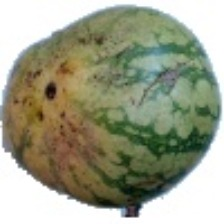watermelon: (13, 51, 202, 186)
